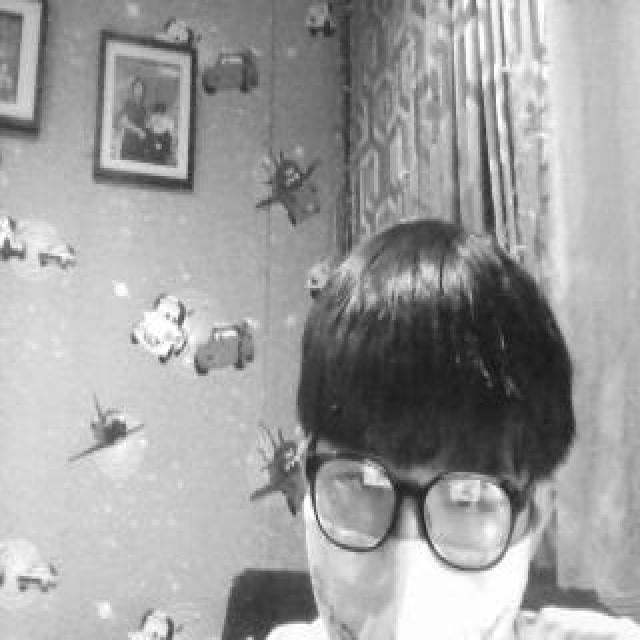Focused: (305, 218, 555, 640)
